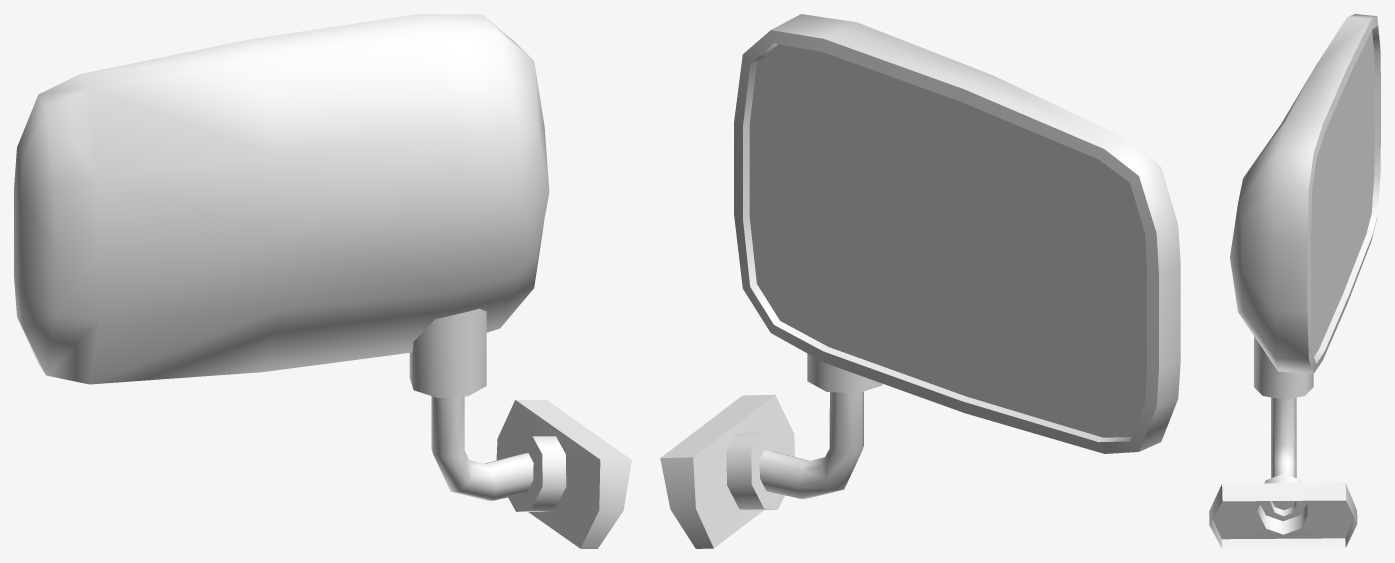
The picture shows the model from 3 angles, left to right: view 1: azimuth 30°, elevation 25°; view 2: azimuth 150°, elevation 25°; view 3: azimuth 270°, elevation 25°; orthographic projection. The views are drawn at different scales.
Size of the model in its own units: 0.1522 by 0.1437 by 0.0583.
1 material, 1 textured.
